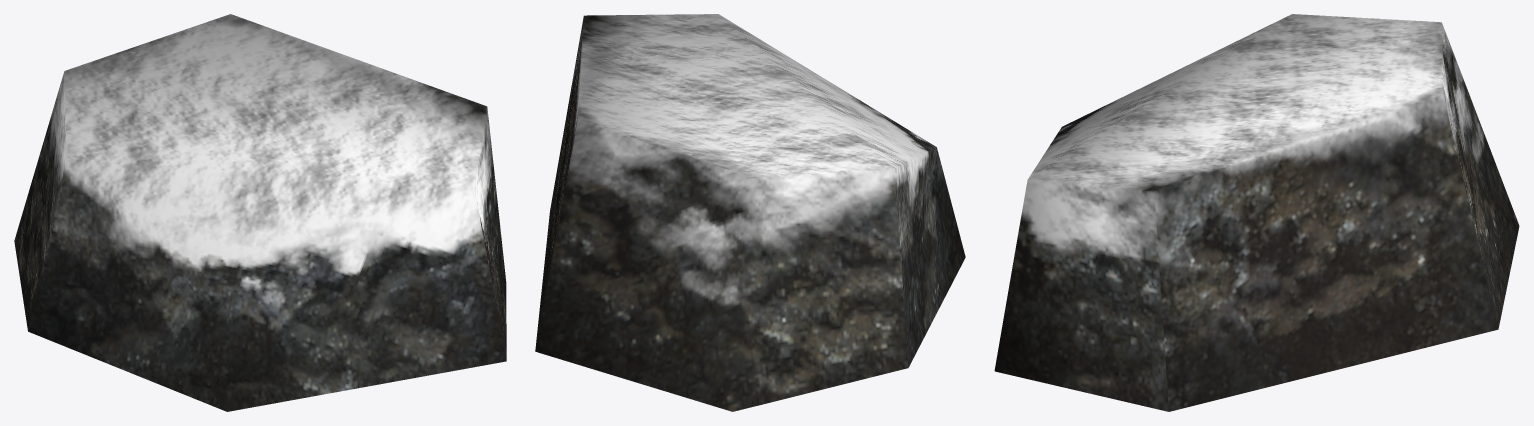
The model's file is Rock_small3.fbx.
3 renders of one model, left to right at view 1: azimuth 30°, elevation 25°; view 2: azimuth 150°, elevation 25°; view 3: azimuth 270°, elevation 25°, orthographic. The views are drawn at different scales.
Visible parts, largest first — view 1: polySurface1; view 2: polySurface1; view 3: polySurface1.
Boxes of the visible parts, <box> form: polySurface1: <box>14,14,506,411</box>; polySurface1: <box>535,14,965,411</box>; polySurface1: <box>994,14,1519,411</box>.
Bounding box in the file's own units: 0.1624 × 0.0829 × 0.1636.
